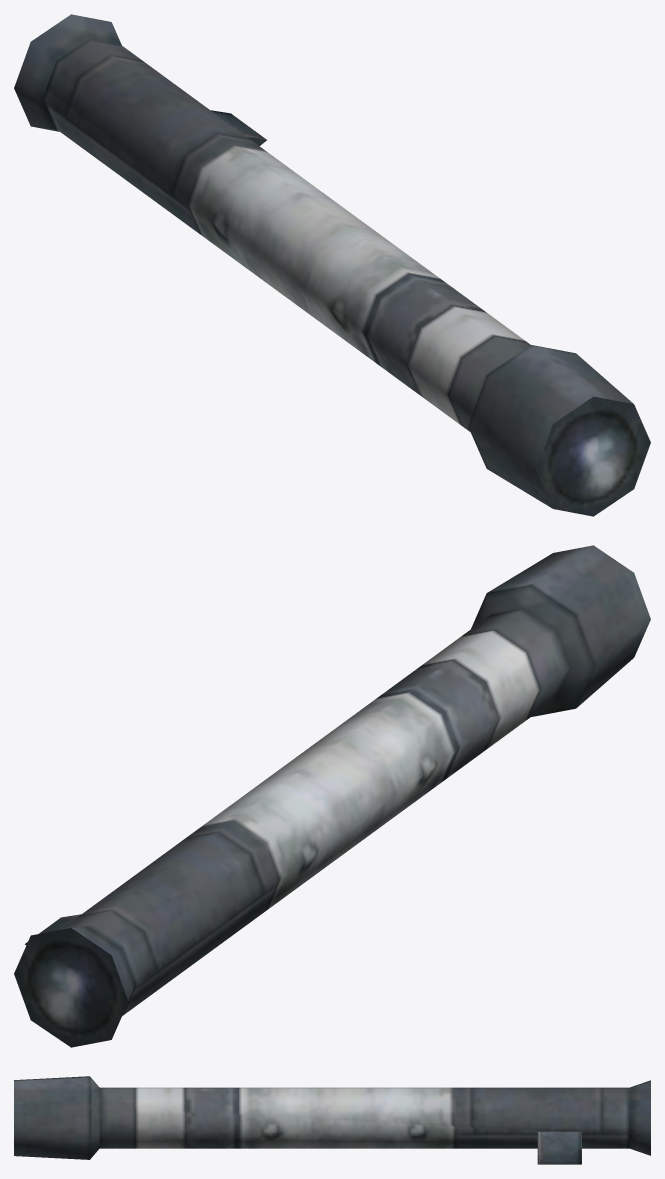
The model's file is wp_scope_renegade_l0.fbx.
3 views of the same model, one above another, from view 1: azimuth 30°, elevation 25°; view 2: azimuth 150°, elevation 25°; view 3: azimuth 270°, elevation 25° (orthographic). The views are drawn at different scales.
Visible parts, largest first — view 1: mesh_node; view 2: mesh_node; view 3: mesh_node.
Boxes of the visible parts, left/top/right/bottom form: mesh_node: left=14, top=14, right=650, bottom=516; mesh_node: left=14, top=545, right=650, bottom=1047; mesh_node: left=14, top=1076, right=650, bottom=1164.
Size of the model in its own units: 0.0425 by 0.0323 by 0.231.
1 material, 1 textured.
